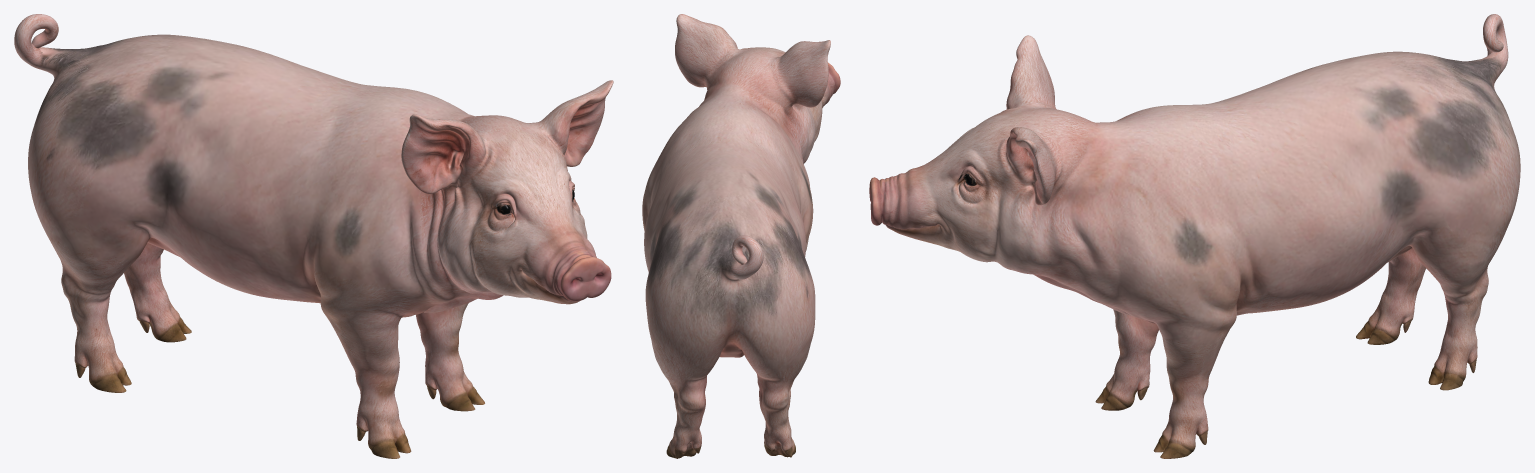
Rendered from pig.glb.
3 views of the same model, side by side, from view 1: azimuth 30°, elevation 25°; view 2: azimuth 150°, elevation 25°; view 3: azimuth 270°, elevation 25° (orthographic). The views are drawn at different scales.
Parts seen in each view (by area): view 1: pig; view 2: pig; view 3: pig.
Boxes of the visible parts, left/top/right/bottom form: pig: left=14, top=14, right=613, bottom=458; pig: left=642, top=14, right=840, bottom=458; pig: left=869, top=14, right=1520, bottom=458.
Size of the model in its own units: 0.8837 by 0.8486 by 1.4.
1 material, 1 textured.
